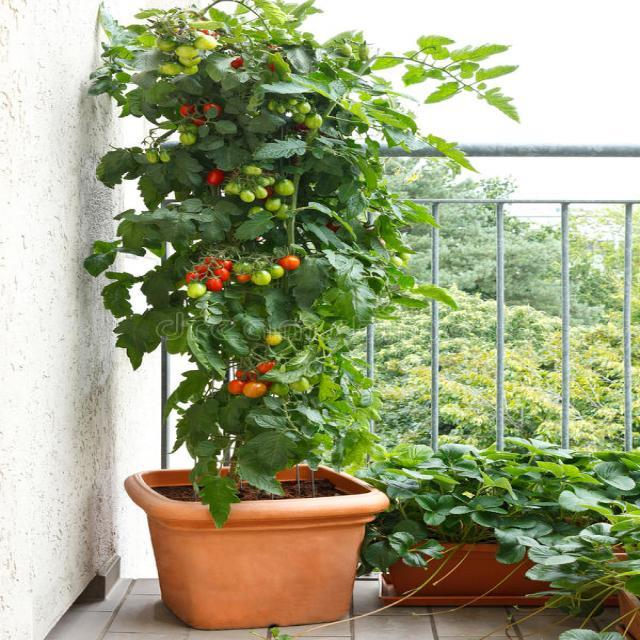plant: (357, 444, 640, 617)
tomato: (84, 0, 517, 527)
